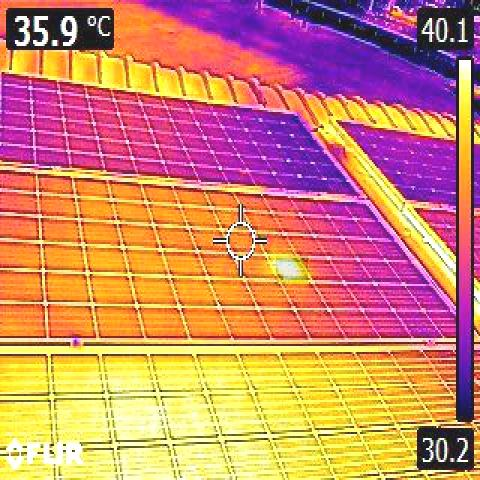fault: (276, 256, 308, 282)
